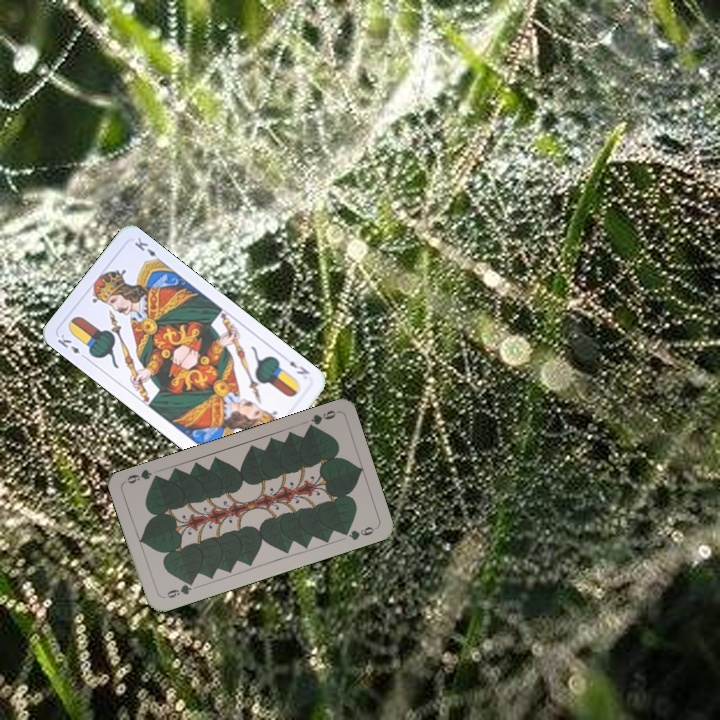EK: (53, 330, 90, 362), (285, 356, 312, 377)
G9: (303, 406, 340, 433), (159, 577, 197, 601)
